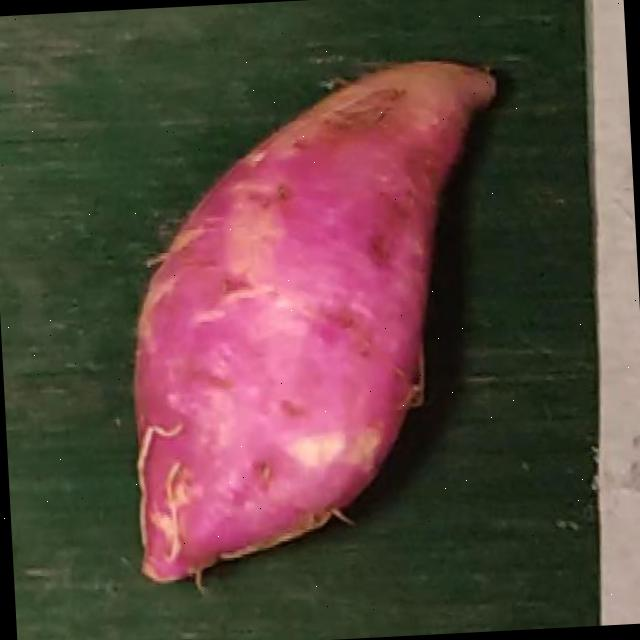Sweet Potato: (129, 59, 497, 584)
